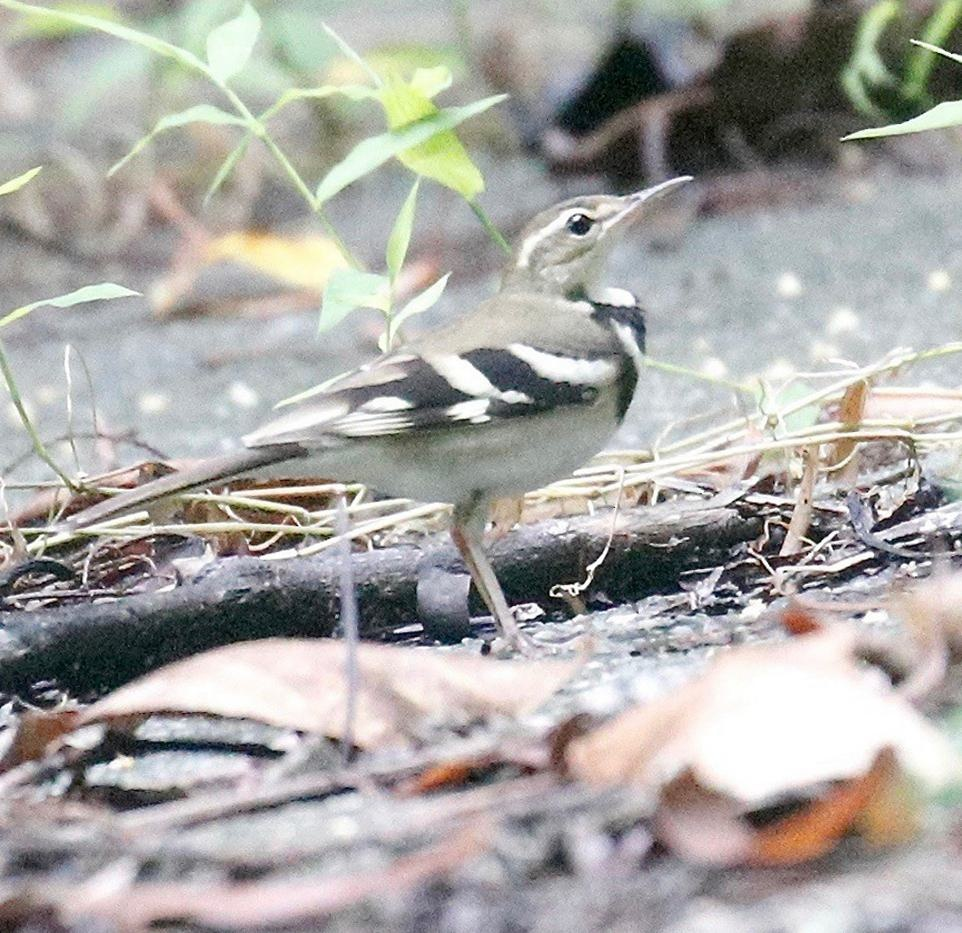wagtail: (123, 151, 709, 611)
